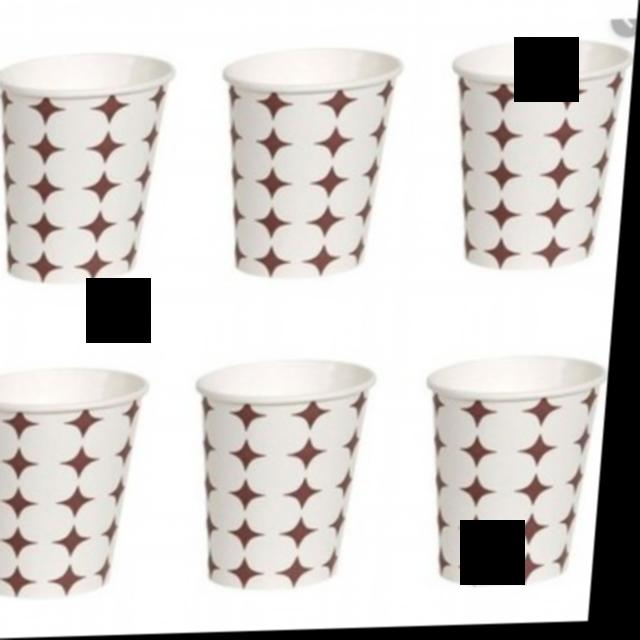karton-bardak: (185, 346, 408, 624), (428, 48, 635, 300), (0, 49, 193, 315), (418, 358, 612, 597), (205, 49, 401, 281), (0, 359, 169, 600)
